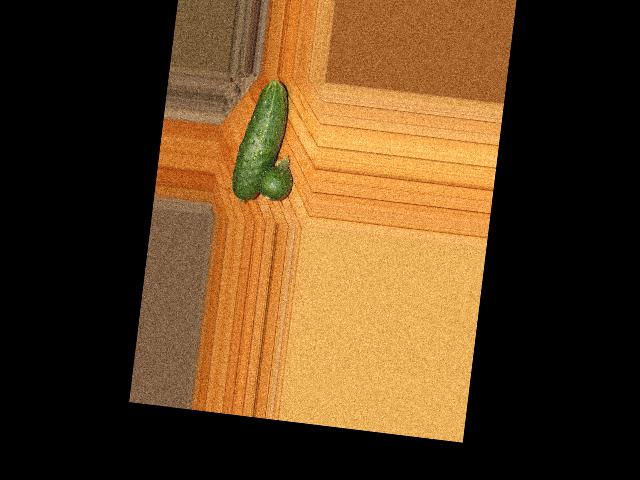cucumber: (230, 76, 291, 204)
